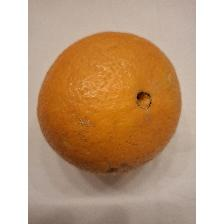Orange: (35, 29, 183, 176)
